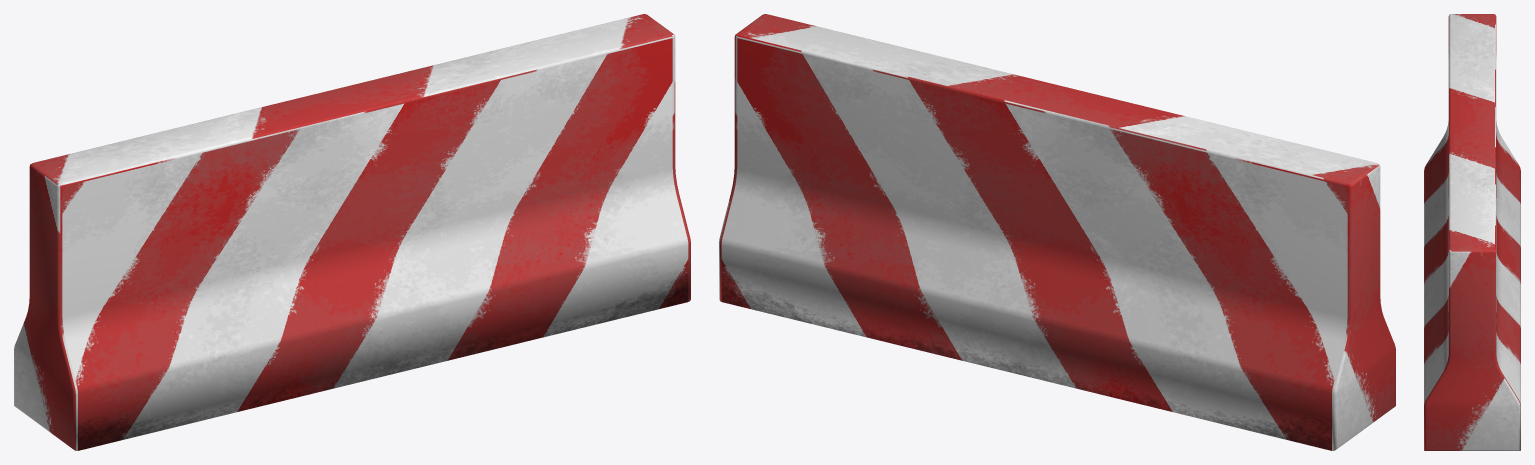
Rendered from Barrier.glb.
3 renders of one model, left to right at view 1: azimuth 30°, elevation 25°; view 2: azimuth 150°, elevation 25°; view 3: azimuth 270°, elevation 25°, orthographic. The views are drawn at different scales.
Visible parts, largest first — view 1: Barrier_Concrete_LOD_0; view 2: Barrier_Concrete_LOD_0; view 3: Barrier_Concrete_LOD_0.
Part boxes in pixels (left/top/right/bottom): Barrier_Concrete_LOD_0: left=14, top=14, right=690, bottom=450; Barrier_Concrete_LOD_0: left=719, top=14, right=1395, bottom=450; Barrier_Concrete_LOD_0: left=1424, top=14, right=1520, bottom=450.
Size of what is drawn, in the model's own units: 6.39 by 2.52 by 1.1.
2 materials, 2 textured.
